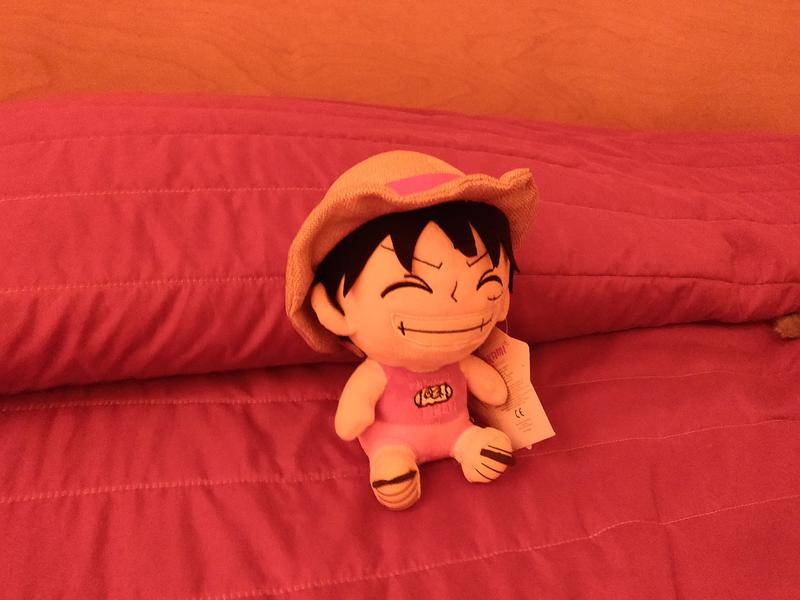rufy: (277, 145, 565, 508)
